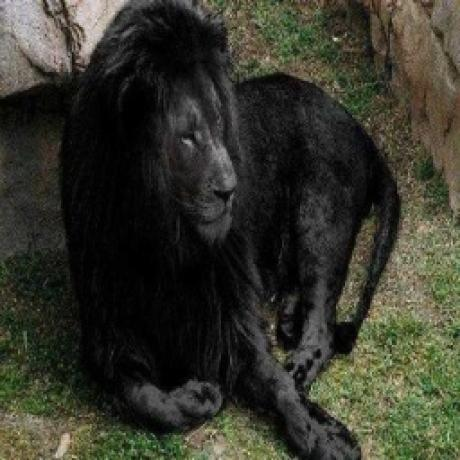Lion: (56, 0, 410, 460)
